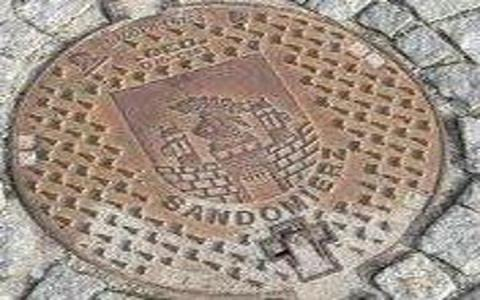proper manhole: (1, 5, 440, 294)
